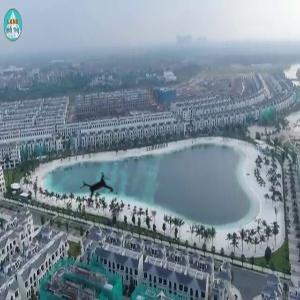drone: (66, 156, 135, 225)
